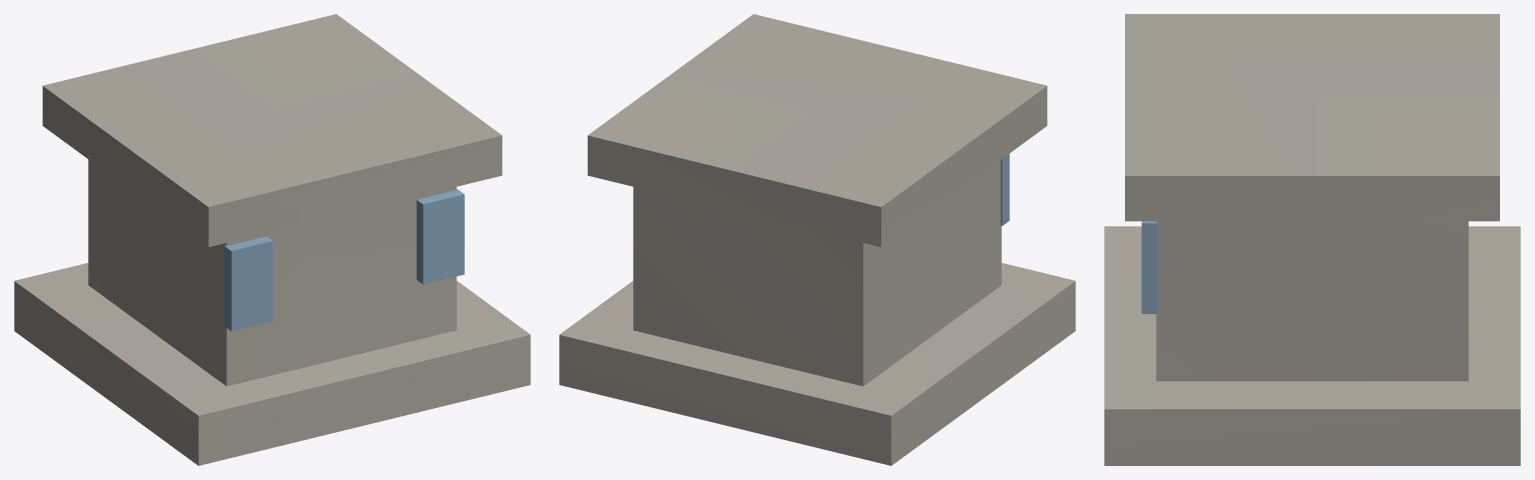
The model's file is market-01.glb.
3 renders of one model, left to right at view 1: azimuth 30°, elevation 25°; view 2: azimuth 150°, elevation 25°; view 3: azimuth 270°, elevation 25°, orthographic. The views are drawn at different scales.
Parts seen in each view (by area): view 1: world; view 2: world; view 3: world.
Boxes of the visible parts, <box> form: world: <box>14,14,530,465</box>; world: <box>559,14,1075,465</box>; world: <box>1104,14,1520,465</box>.
Bounding box in the file's own units: 1.04 × 0.74 × 1.
